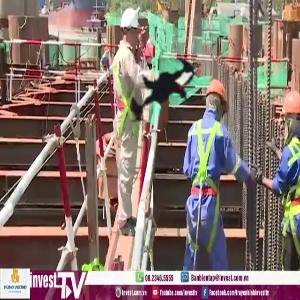drone: (104, 34, 232, 162)
